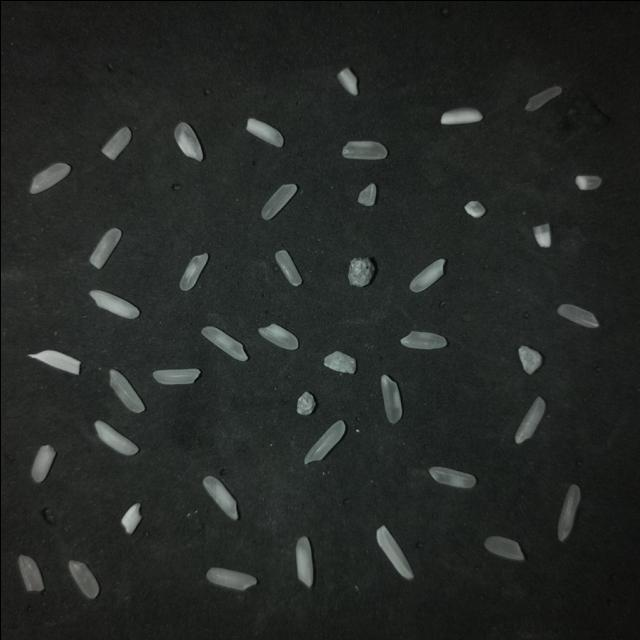broken: (29, 163, 70, 194), (68, 561, 98, 599), (101, 127, 131, 160), (274, 250, 301, 286), (484, 536, 523, 560), (524, 86, 561, 111), (18, 555, 43, 591), (341, 141, 386, 160), (517, 346, 541, 374), (357, 183, 376, 206), (574, 176, 601, 190), (464, 201, 485, 218)
chalky: (304, 421, 345, 464), (202, 476, 237, 520), (109, 370, 144, 413), (94, 421, 138, 455), (514, 397, 544, 444), (89, 291, 138, 319), (178, 252, 208, 290), (409, 260, 444, 292), (246, 118, 283, 147), (174, 123, 202, 161), (258, 323, 297, 350), (31, 445, 55, 482), (295, 537, 312, 587), (440, 108, 482, 125), (121, 503, 141, 534), (337, 68, 357, 95), (532, 224, 550, 247)
foreign: (376, 526, 413, 579), (28, 350, 80, 374), (347, 258, 374, 287), (323, 351, 355, 373), (296, 392, 315, 415)
whole: (201, 327, 246, 360), (260, 183, 297, 219), (89, 228, 121, 269), (557, 485, 580, 542), (206, 568, 256, 590), (380, 375, 401, 424), (429, 466, 475, 488), (557, 305, 598, 328), (400, 331, 446, 349), (152, 369, 200, 384)
